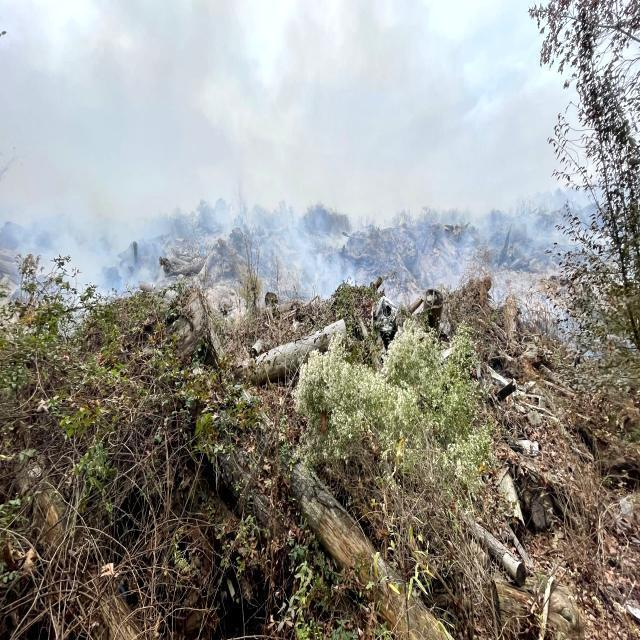Smoke: (0, 7, 556, 302)
